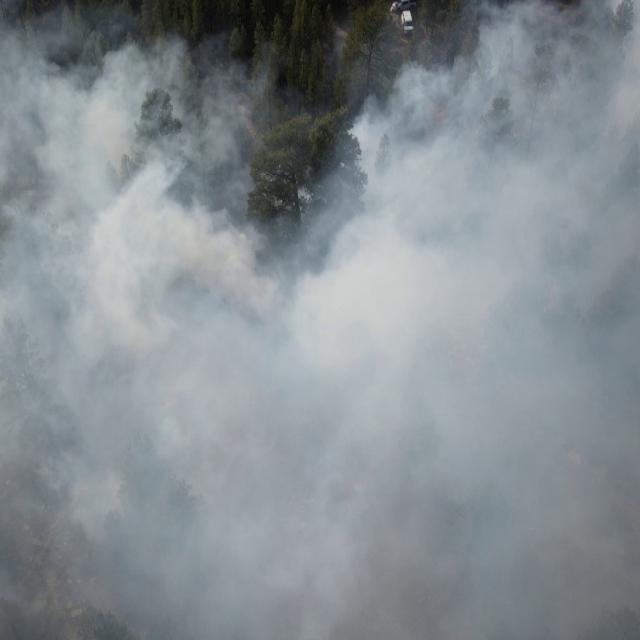smoke: (340, 0, 640, 640), (0, 0, 157, 640), (156, 32, 266, 640), (266, 106, 341, 640)
